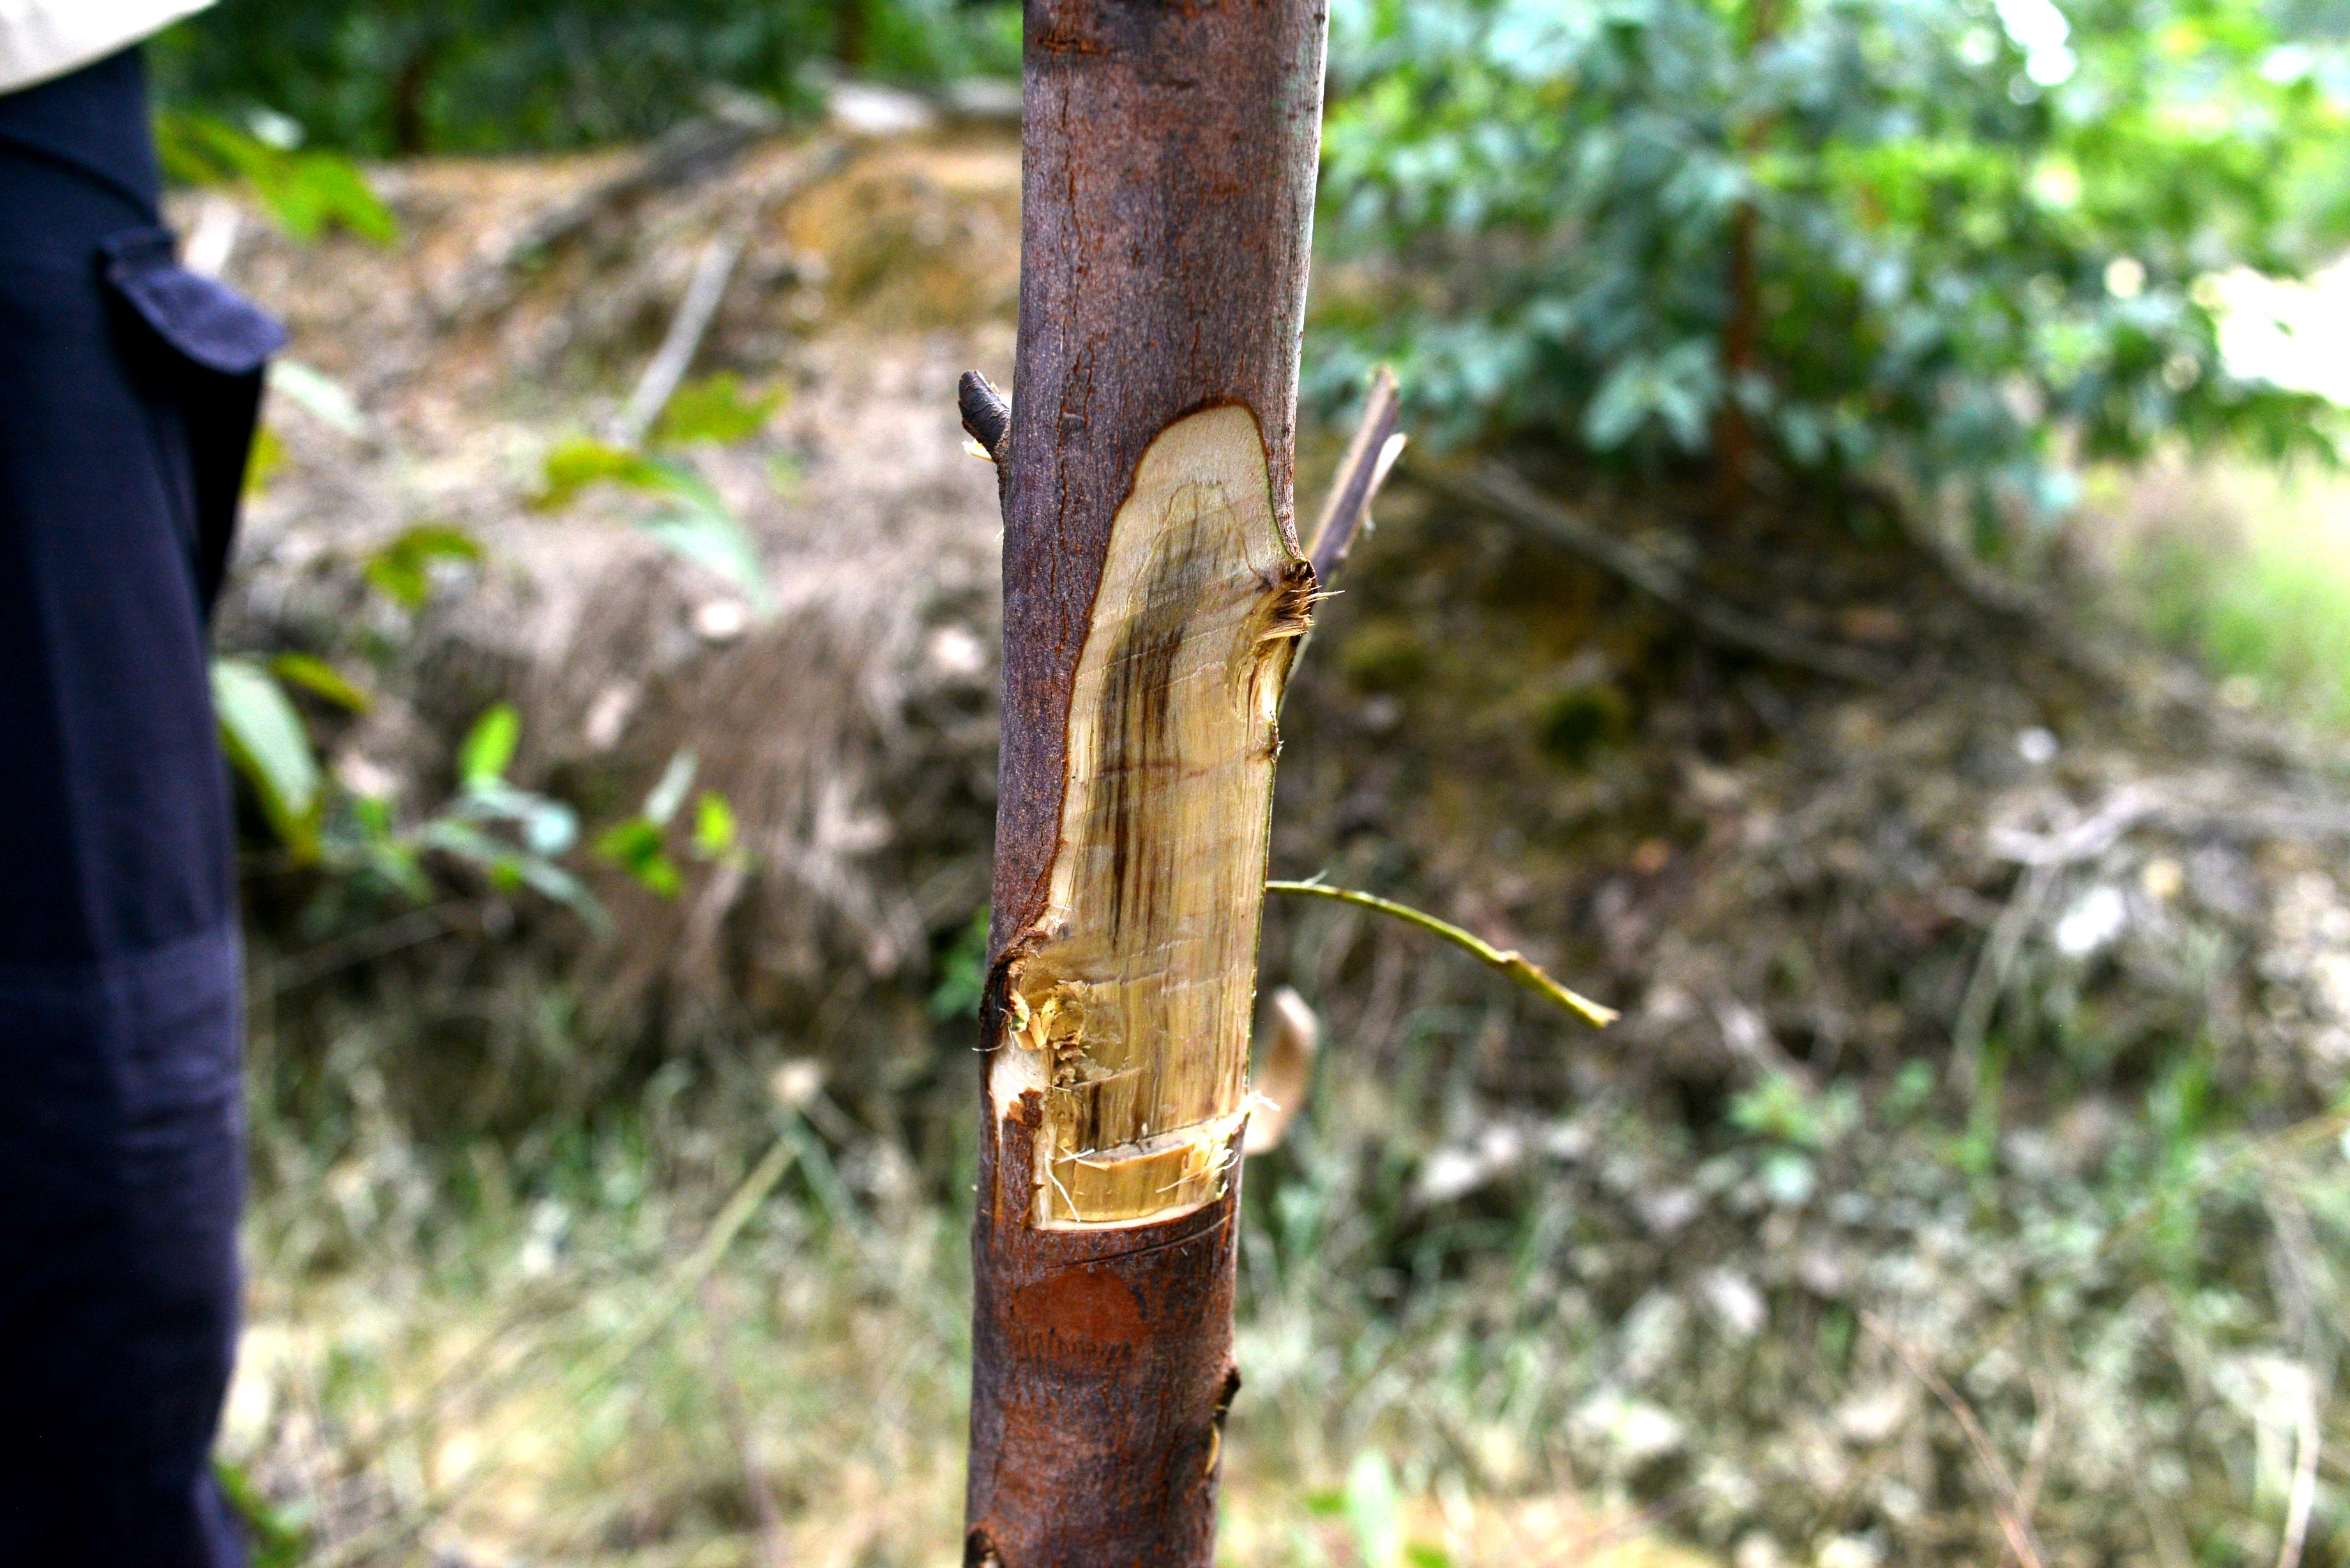Ralstonia: (1052, 406, 1256, 1227)
